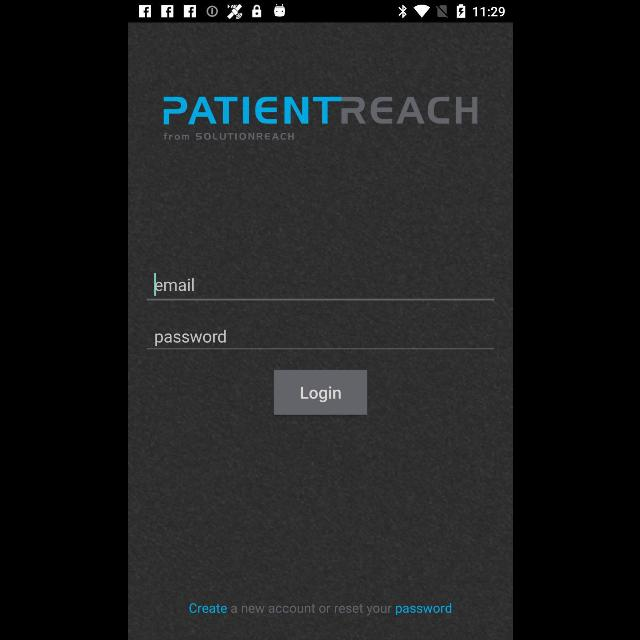image: (162, 97, 478, 141)
input: (146, 273, 494, 301), (146, 330, 494, 350)
text: (188, 602, 452, 616), (154, 329, 226, 346), (155, 278, 193, 292)
textbutton: (273, 370, 367, 414)
uppertaskbar: (128, 1, 512, 23)
